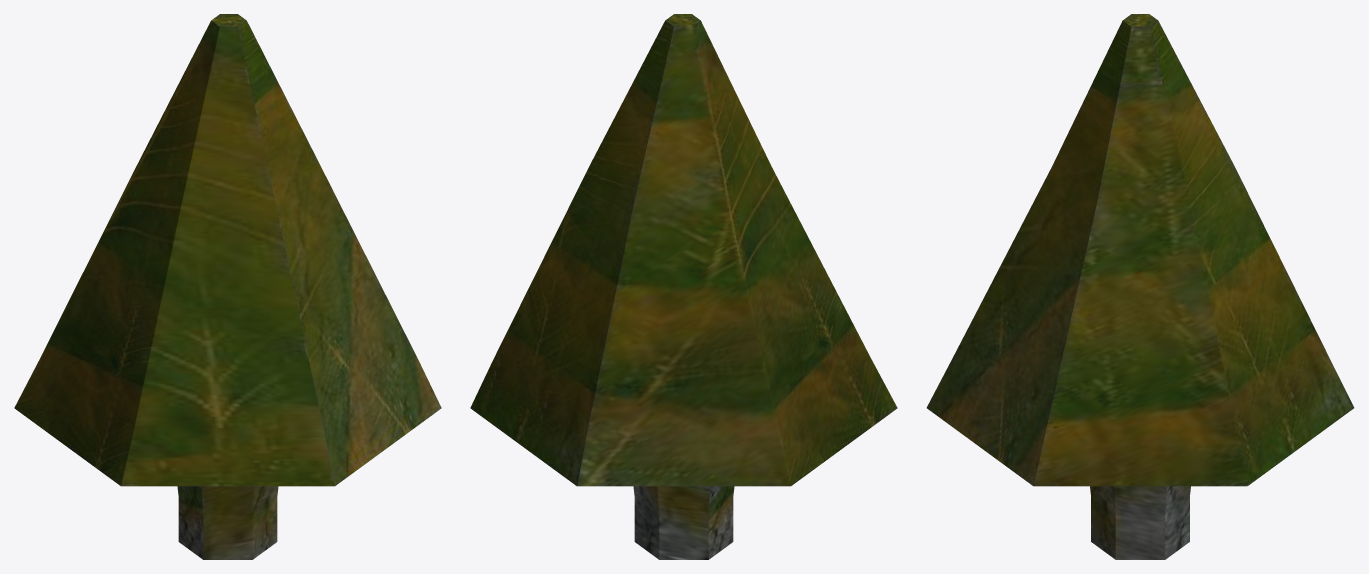
File: tree.obj
The picture shows the model from 3 angles, left to right: view 1: azimuth 30°, elevation 25°; view 2: azimuth 150°, elevation 25°; view 3: azimuth 270°, elevation 25°; orthographic projection.
Parts seen in each view (by area): view 1: Cylinder; view 2: Cylinder; view 3: Cylinder.
Boxes of the visible parts, x1,y1,x2,y2 form: Cylinder: (14,14,441,559); Cylinder: (470,14,897,559); Cylinder: (926,14,1354,559).
Bounding box in the file's own units: 2.93 × 4.55 × 3.38.
